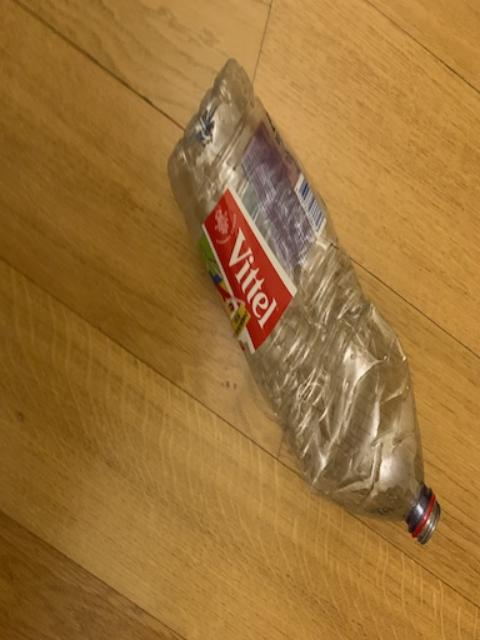plastic: (168, 59, 438, 540)
